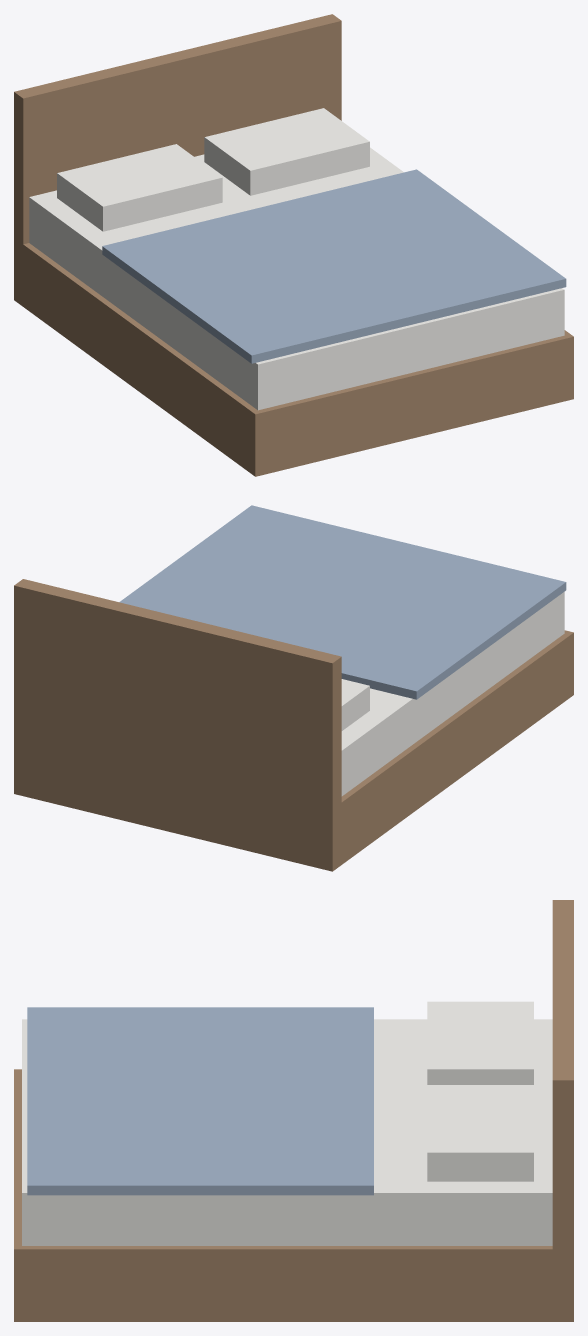
File: double-bed.glb
The picture shows the model from 3 angles, top to bottom: view 1: azimuth 30°, elevation 25°; view 2: azimuth 150°, elevation 25°; view 3: azimuth 270°, elevation 25°; orthographic projection. The views are drawn at different scales.
Parts seen in each view (by area): view 1: Blanket, Frame, Headboard, Mattress, Pillow (×2); view 2: Headboard, Blanket, Frame, Mattress, Pillow; view 3: Blanket, Frame, Mattress, Pillow (×2), Headboard.
Boxes of the visible parts, x1=… form: Blanket: x1=102, y1=169, x2=566, y2=363; Frame: x1=14, y1=238, x2=573, y2=476; Headboard: x1=14, y1=14, x2=341, y2=306; Mattress: x1=29, y1=147, x2=564, y2=410; Pillow (×2): x1=57, y1=108, x2=369, y2=231; Headboard: x1=14, y1=579, x2=341, y2=870; Blanket: x1=119, y1=505, x2=566, y2=699; Frame: x1=20, y1=630, x2=573, y2=871; Mattress: x1=341, y1=592, x2=564, y2=796; Pillow: x1=341, y1=679, x2=369, y2=730; Blanket: x1=27, y1=1007, x2=373, y2=1195; Frame: x1=14, y1=1069, x2=573, y2=1321; Mattress: x1=22, y1=1019, x2=552, y2=1245; Pillow (×2): x1=427, y1=1001, x2=533, y2=1181; Headboard: x1=552, y1=900, x2=573, y2=1321.
Size of the model in its own units: 1.6 by 1 by 2.1.
